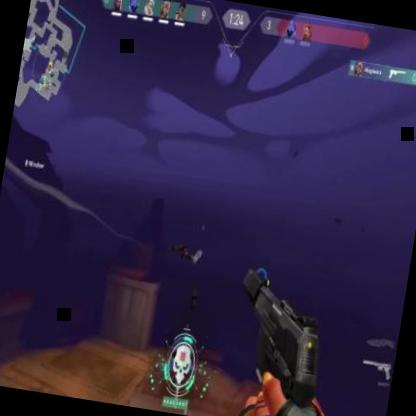enemy: (162, 215, 212, 351)
